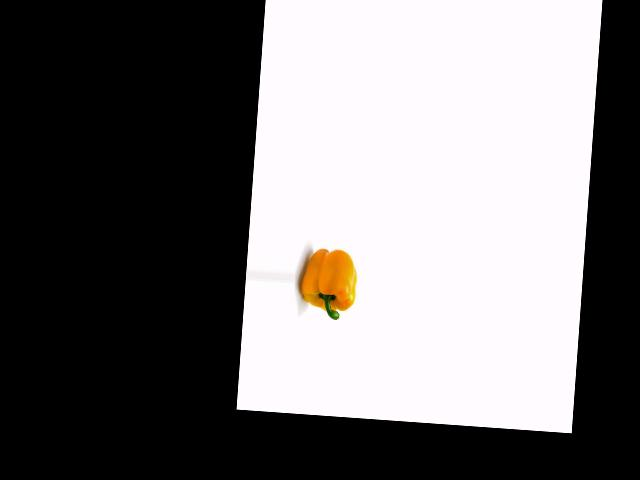bell_pepper: (298, 245, 361, 327)
